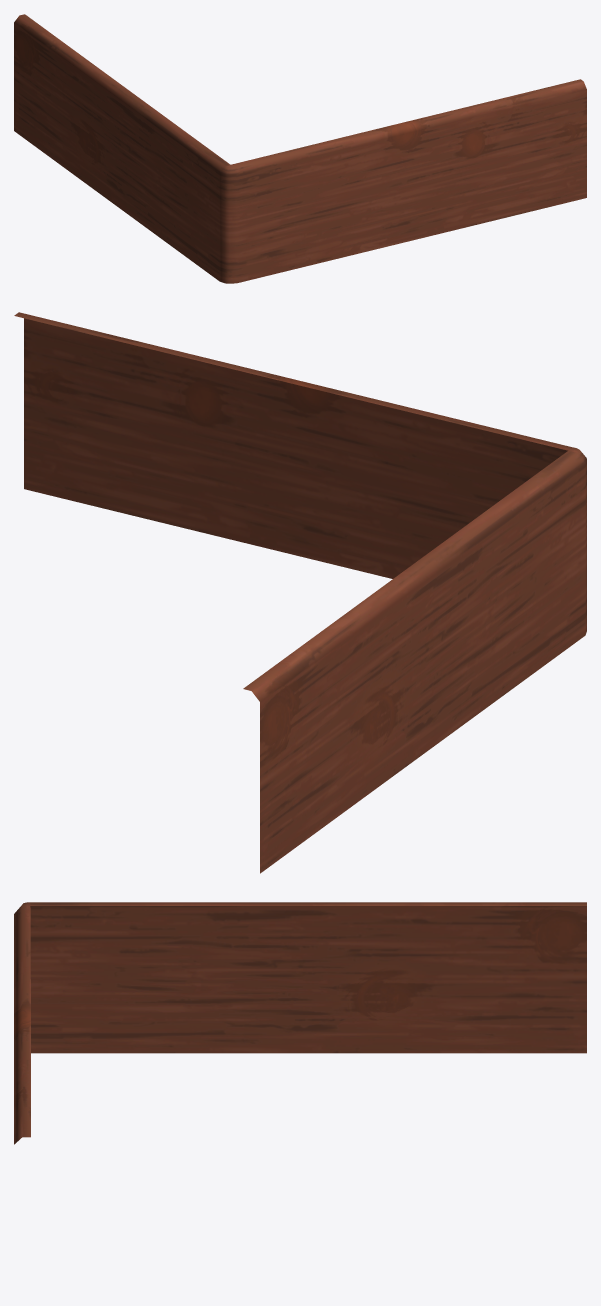
The model's file is En_W_Woodtrim_corner2.fbx.
3 views of the same model, one above another, from view 1: azimuth 30°, elevation 25°; view 2: azimuth 150°, elevation 25°; view 3: azimuth 270°, elevation 25° (orthographic). The views are drawn at different scales.
Parts seen in each view (by area): view 1: En_W_Woodtrim_corner1; view 2: En_W_Woodtrim_corner1; view 3: En_W_Woodtrim_corner1.
Part boxes in pixels (x1,y1,x2,y2): En_W_Woodtrim_corner1: (14,14,586,283); En_W_Woodtrim_corner1: (14,312,586,873); En_W_Woodtrim_corner1: (14,902,586,1144).
Bounding box in the file's own units: 203 × 61.34 × 206.
